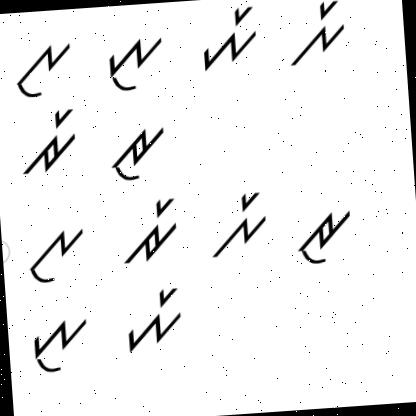lar: (201, 186, 273, 265), (285, 0, 350, 73)
law: (6, 34, 76, 102), (22, 221, 92, 289)
rar: (17, 102, 83, 180), (120, 194, 184, 270)
raw: (103, 122, 169, 188), (295, 206, 357, 272)
yar: (119, 282, 188, 356), (194, 0, 261, 74)
yaw: (22, 312, 98, 376), (100, 34, 166, 98)
